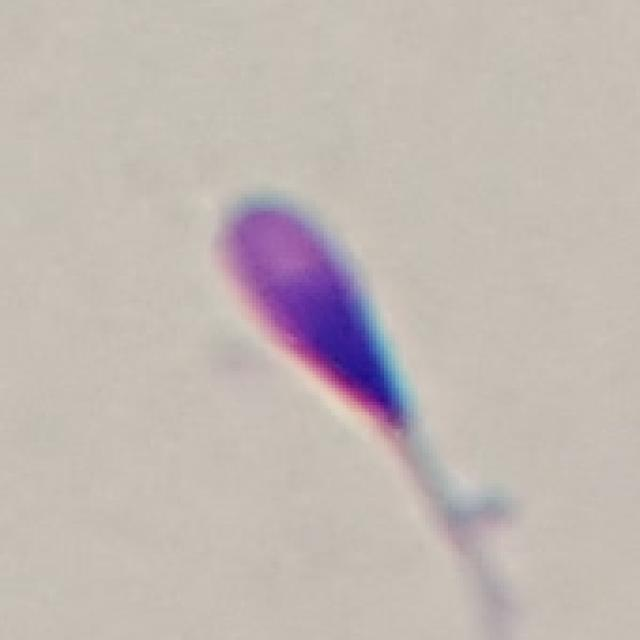abnormal sperm: (214, 182, 499, 575)
